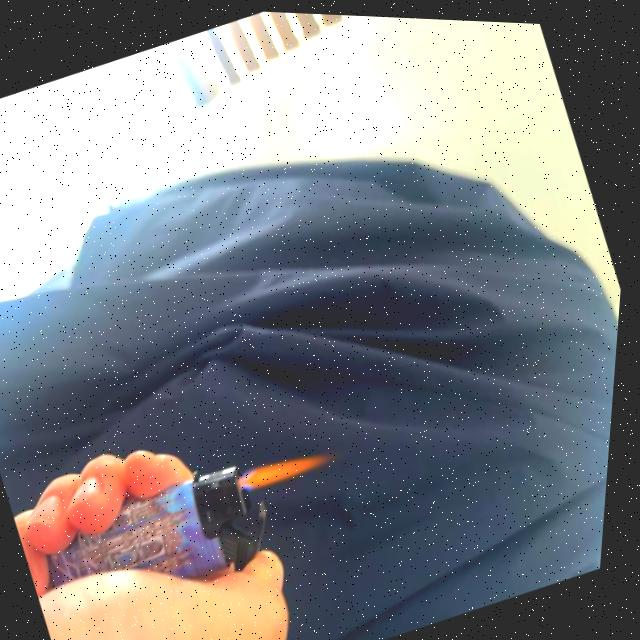Fire: (245, 436, 343, 497)
